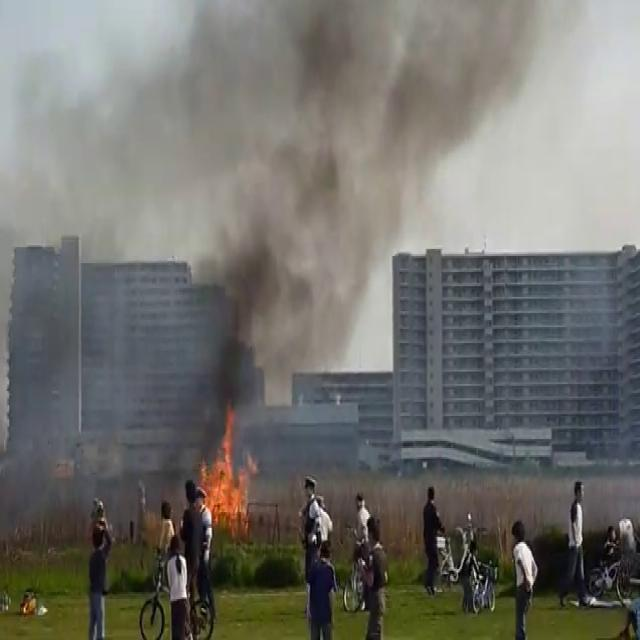Fire: (196, 405, 256, 528)
Smoke: (153, 0, 518, 402)
